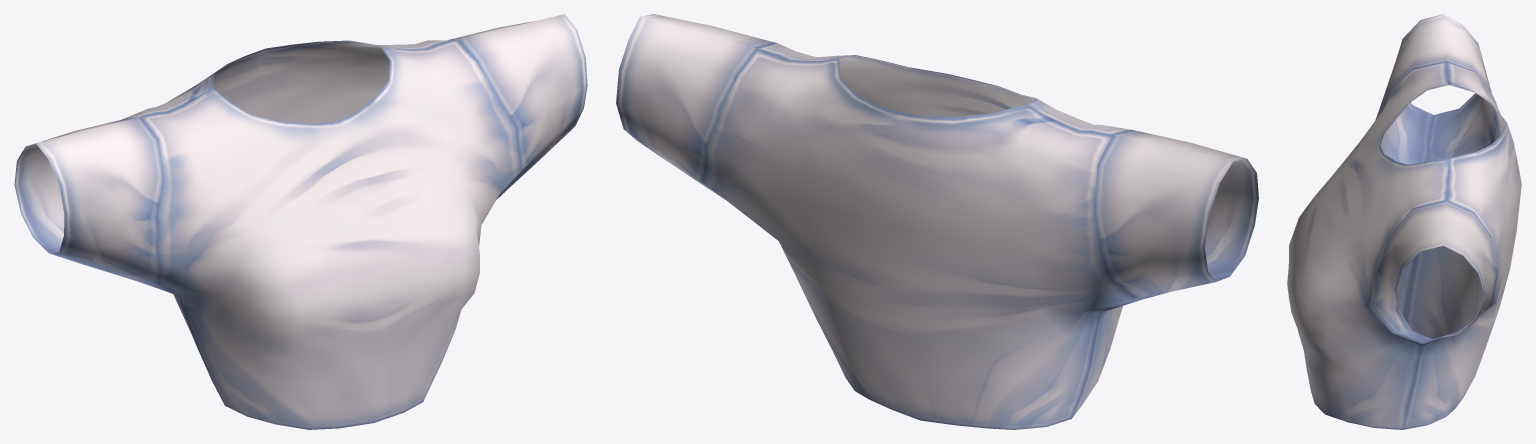
Rendered from mini-tshirt_tpose.glb.
The picture shows the model from 3 angles, left to right: view 1: azimuth 30°, elevation 25°; view 2: azimuth 150°, elevation 25°; view 3: azimuth 270°, elevation 25°; orthographic projection. The views are drawn at different scales.
Visible parts, largest first — view 1: mini_tshirt; view 2: mini_tshirt; view 3: mini_tshirt.
Part boxes in pixels (x1,y1,x2,y2): mini_tshirt: (14,14,587,429); mini_tshirt: (616,14,1258,429); mini_tshirt: (1287,14,1521,429).
Bounding box in the file's own units: 0.4876 × 0.2639 × 0.2086.
Materials: 1 (1 with a texture image).
